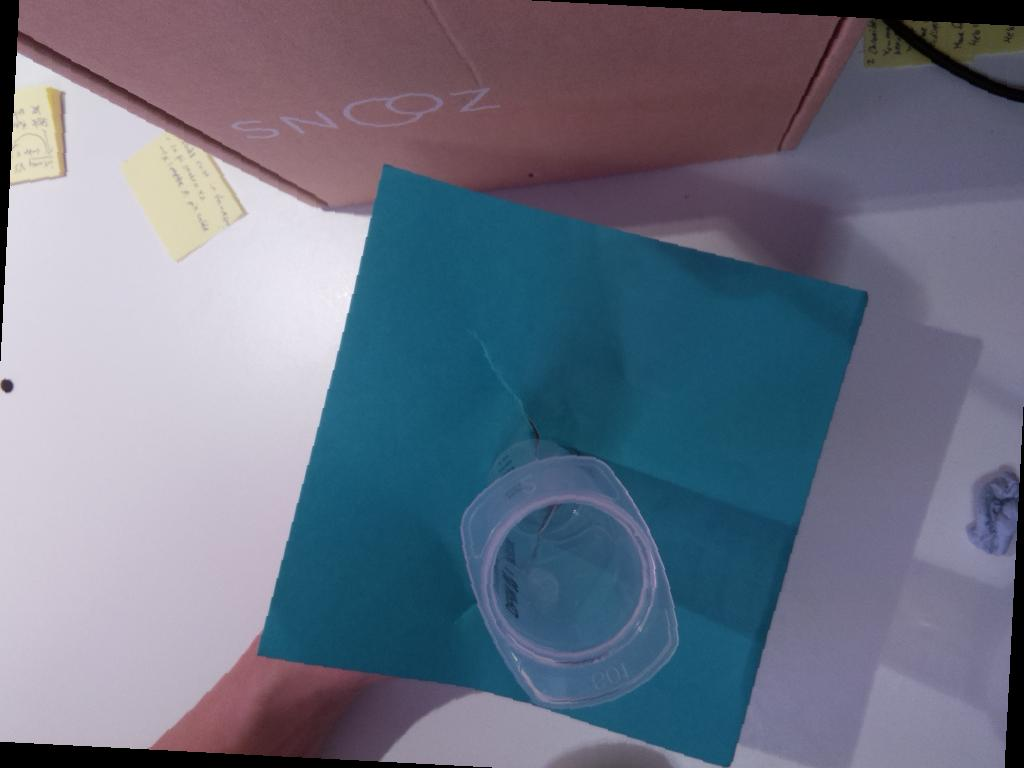clean: (454, 450, 680, 708)
